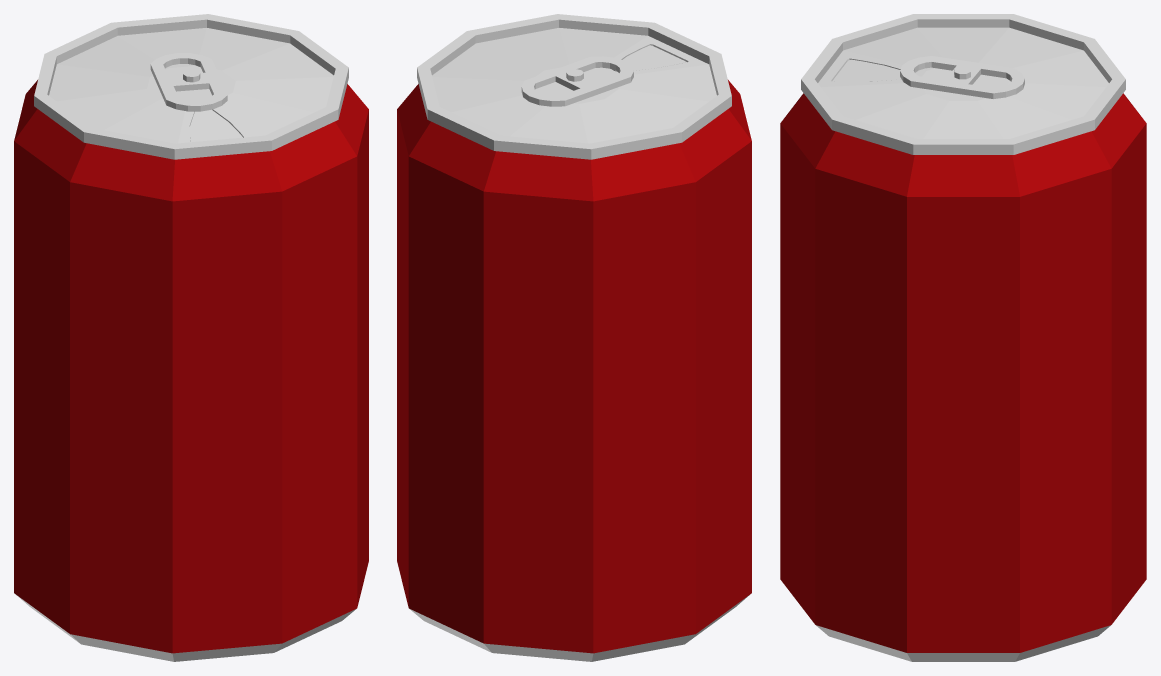
The model's file is can1.glb.
The picture shows the model from 3 angles, left to right: view 1: azimuth 30°, elevation 25°; view 2: azimuth 150°, elevation 25°; view 3: azimuth 270°, elevation 25°; orthographic projection.
Parts seen in each view (by area): view 1: Icosphere.001, Icosphere; view 2: Icosphere.001, Icosphere; view 3: Icosphere.001, Icosphere.
Part boxes in pixels (<box>): Icosphere.001: <box>14,80,368,653</box>; Icosphere: <box>16,14,355,661</box>; Icosphere.001: <box>397,80,751,653</box>; Icosphere: <box>410,14,749,661</box>; Icosphere.001: <box>780,93,1146,652</box>; Icosphere: <box>801,14,1125,661</box>.
Bounding box in the file's own units: 8.9 × 14.79 × 9.36.
